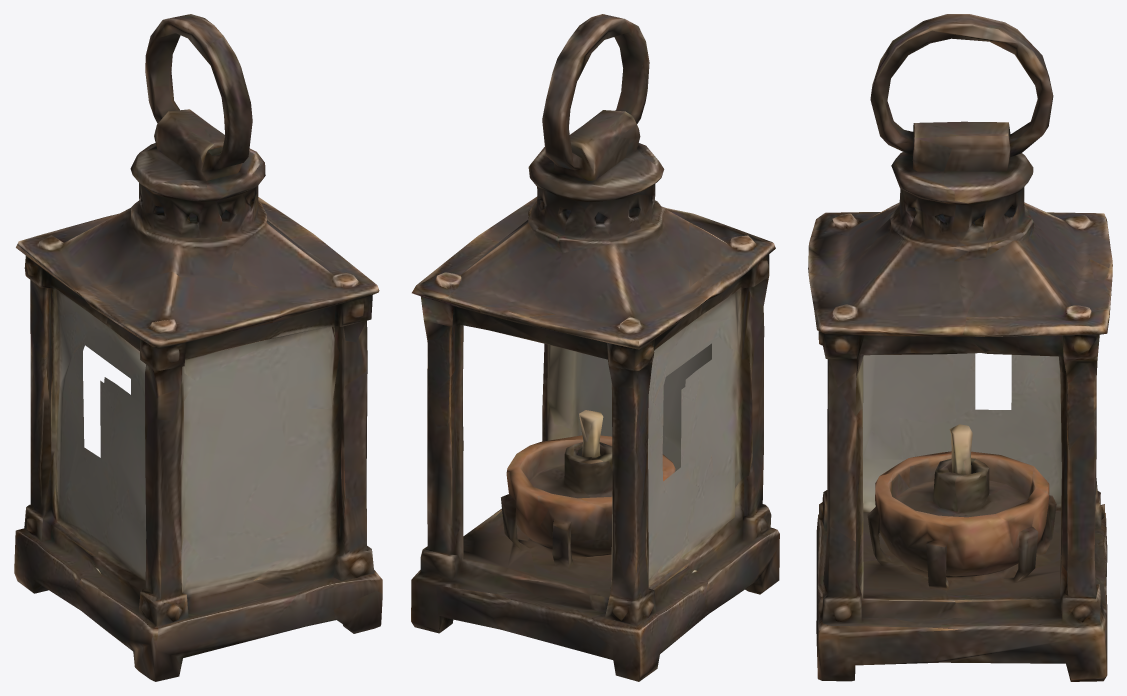
Rendered from portable-lantern-tripo.glb.
The picture shows the model from 3 angles, left to right: view 1: azimuth 30°, elevation 25°; view 2: azimuth 150°, elevation 25°; view 3: azimuth 270°, elevation 25°; orthographic projection. The views are drawn at different scales.
Visible parts, largest first — view 1: tripo_node_225bfd29-e9c1-4f77-a13e-59856e809066; view 2: tripo_node_225bfd29-e9c1-4f77-a13e-59856e809066; view 3: tripo_node_225bfd29-e9c1-4f77-a13e-59856e809066.
Part boxes in pixels (x1,y1,x2,y2): tripo_node_225bfd29-e9c1-4f77-a13e-59856e809066: (14,14,382,681); tripo_node_225bfd29-e9c1-4f77-a13e-59856e809066: (411,14,779,681); tripo_node_225bfd29-e9c1-4f77-a13e-59856e809066: (808,14,1112,681).
Size of the model in its own units: 0.4227 by 0.9996 by 0.4546.
1 material, 1 textured.
